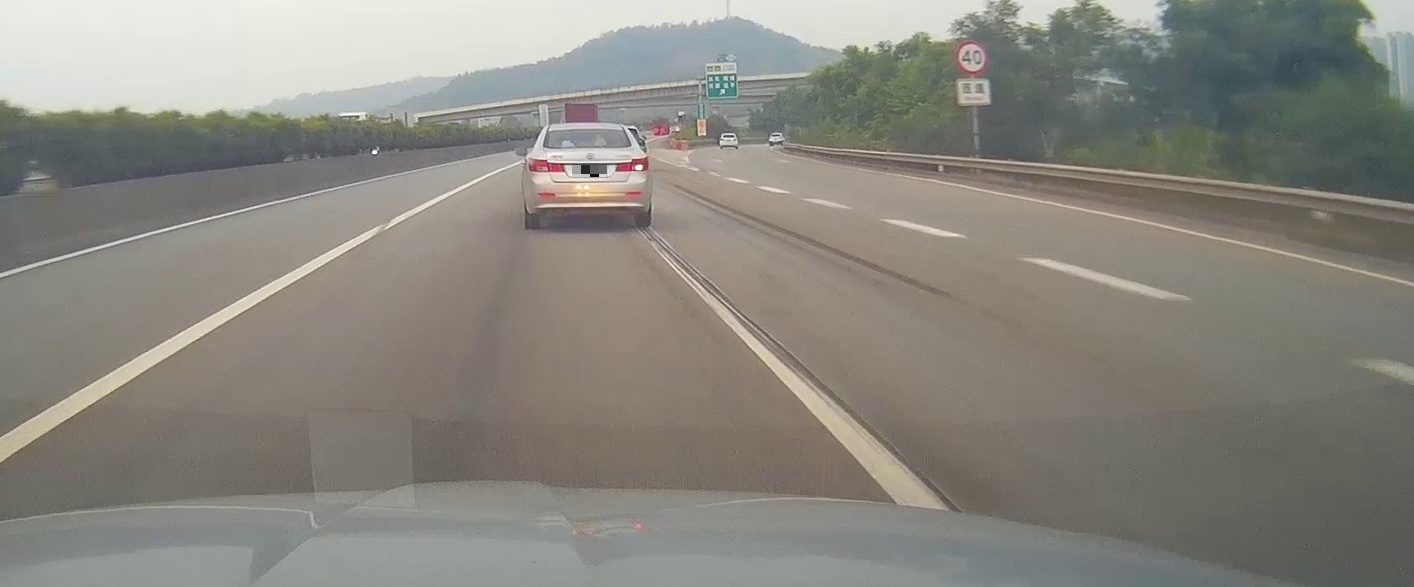L_light: (527, 157, 567, 173)
R_light: (615, 156, 648, 172)
T_light: (575, 127, 595, 132)
day-right: (523, 122, 651, 229)
plate_1: (572, 165, 607, 177)
